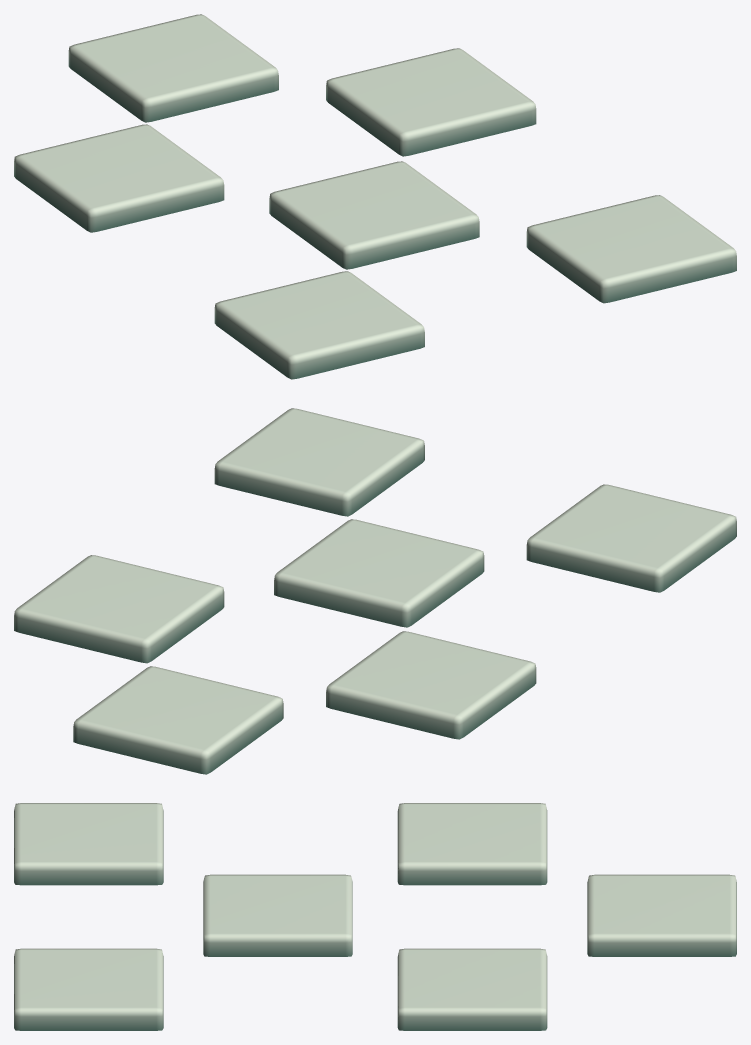
File: Mult_Square.fbx
The picture shows the model from 3 angles, top to bottom: view 1: azimuth 30°, elevation 25°; view 2: azimuth 150°, elevation 25°; view 3: azimuth 270°, elevation 25°; orthographic projection. The views are drawn at different scales.
Parts seen in each view (by area): view 1: Plane.008; view 2: Plane.008; view 3: Plane.008.
Boxes of the visible parts, x1=… form: Plane.008: x1=14, y1=14, x2=736, y2=379; Plane.008: x1=14, y1=408, x2=736, y2=774; Plane.008: x1=14, y1=803, x2=736, y2=1030.
Bounding box in the file's own units: 521 × 23.89 × 762.
